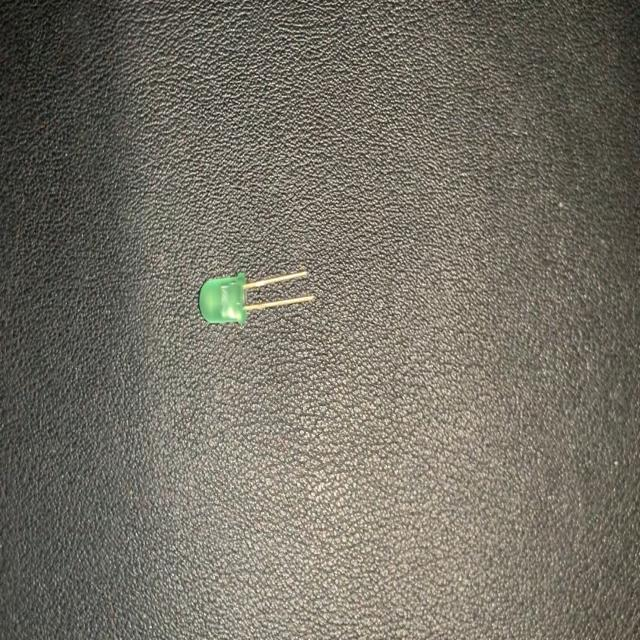LED: (197, 263, 313, 330)
